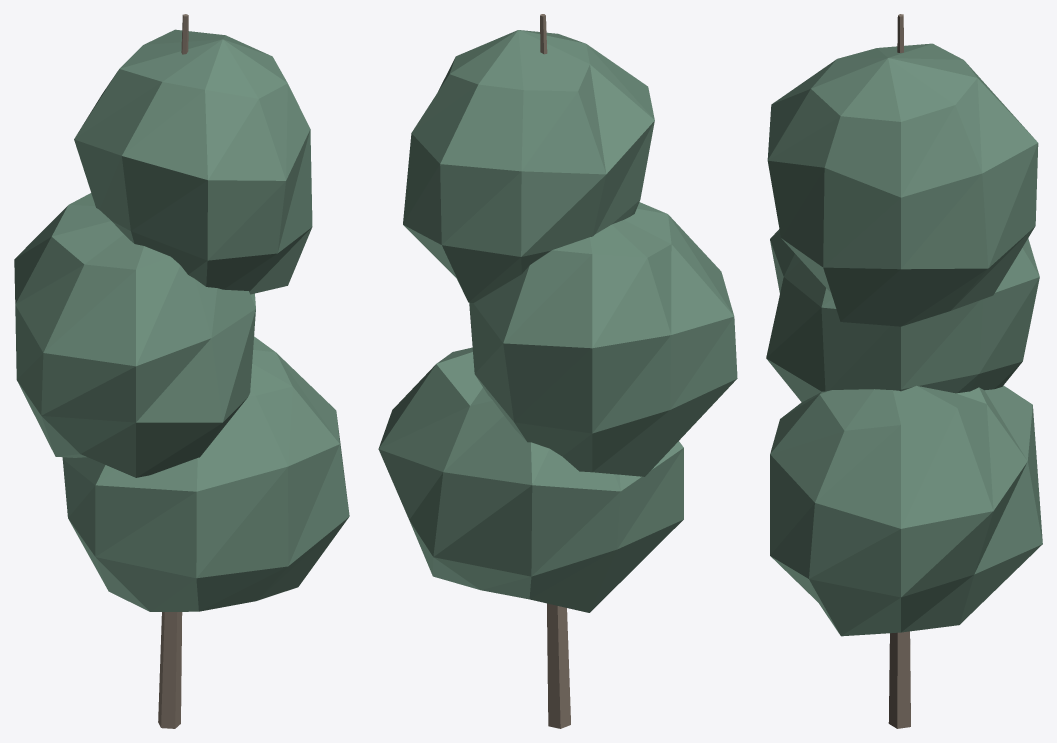
The picture shows the model from 3 angles, left to right: view 1: azimuth 30°, elevation 25°; view 2: azimuth 150°, elevation 25°; view 3: azimuth 270°, elevation 25°; orthographic projection.
Size of the model in its own units: 2.91 by 6.12 by 2.14.
